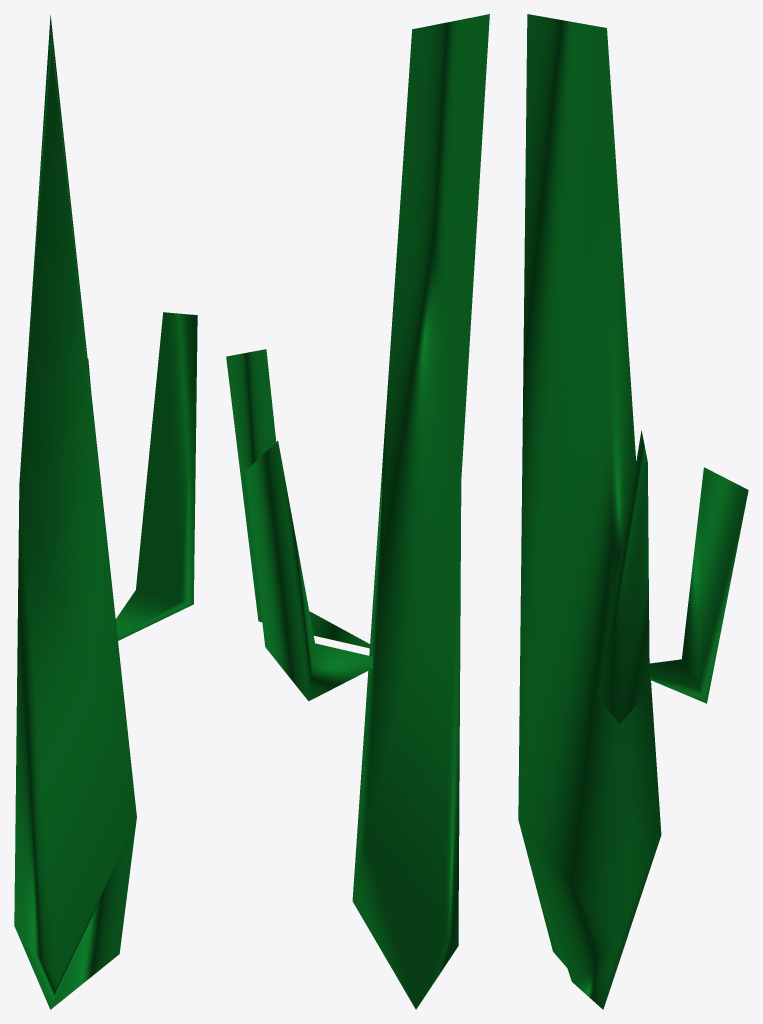
The model's file is SeguaroCactusLarge1_LOD3.obj.
3 views of the same model, side by side, from view 1: azimuth 30°, elevation 25°; view 2: azimuth 150°, elevation 25°; view 3: azimuth 270°, elevation 25° (orthographic).
Parts seen in each view (by area): view 1: SeguaroCactusLarge1_LOD3; view 2: SeguaroCactusLarge1_LOD3; view 3: SeguaroCactusLarge1_LOD3.
Boxes of the visible parts, x1,y1,x2,y2 form: SeguaroCactusLarge1_LOD3: [14, 15, 197, 1009]; SeguaroCactusLarge1_LOD3: [226, 14, 489, 1009]; SeguaroCactusLarge1_LOD3: [518, 14, 748, 1009].
Bounding box in the file's own units: 109 × 496 × 105.
